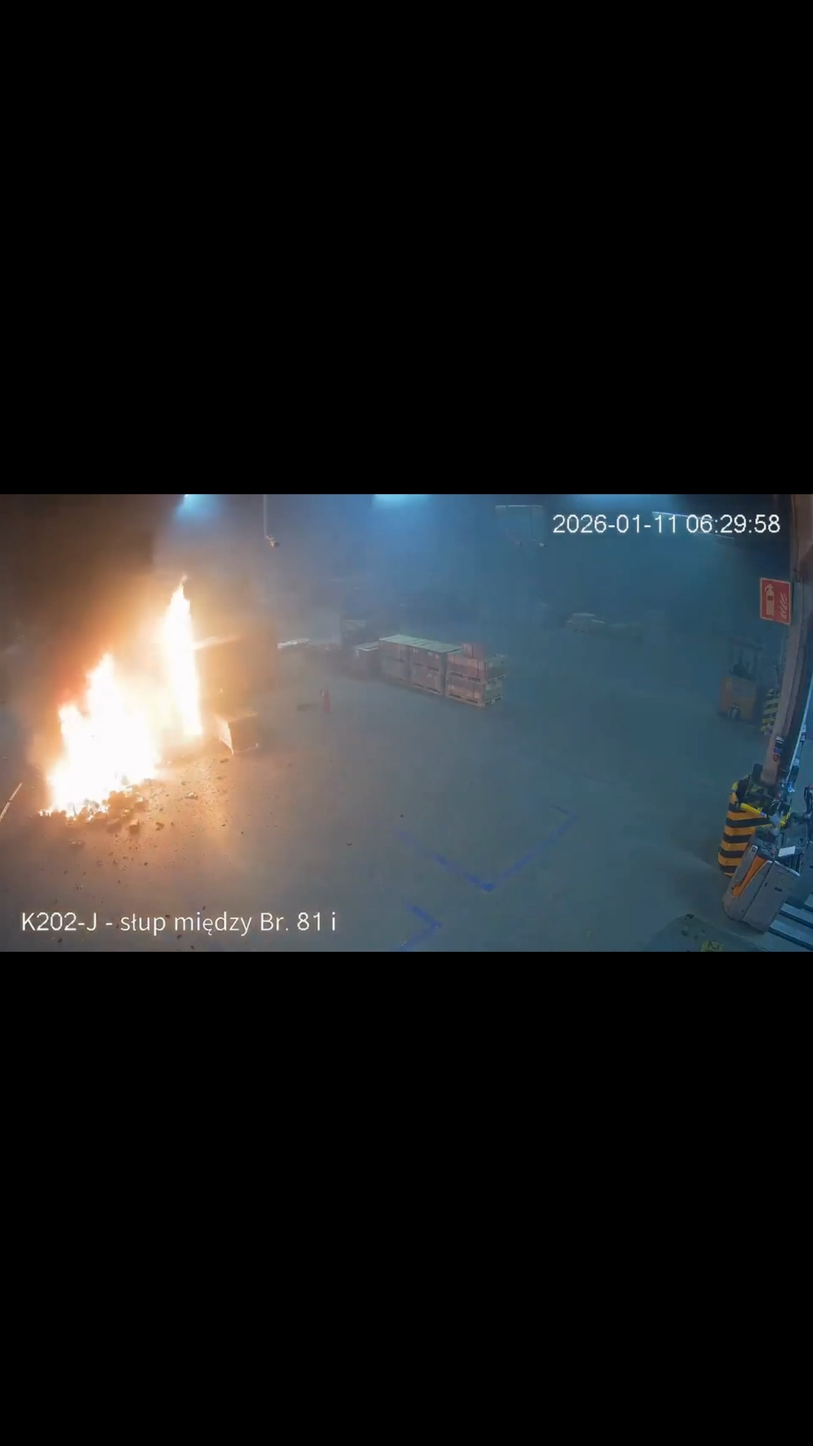fire: (40, 574, 207, 824)
smoke: (3, 496, 482, 720)
